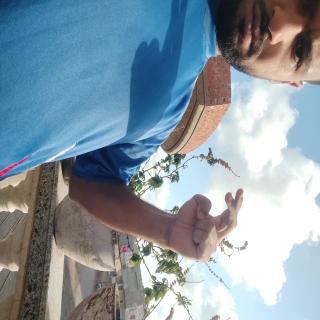ZAY: (136, 93, 198, 213)
